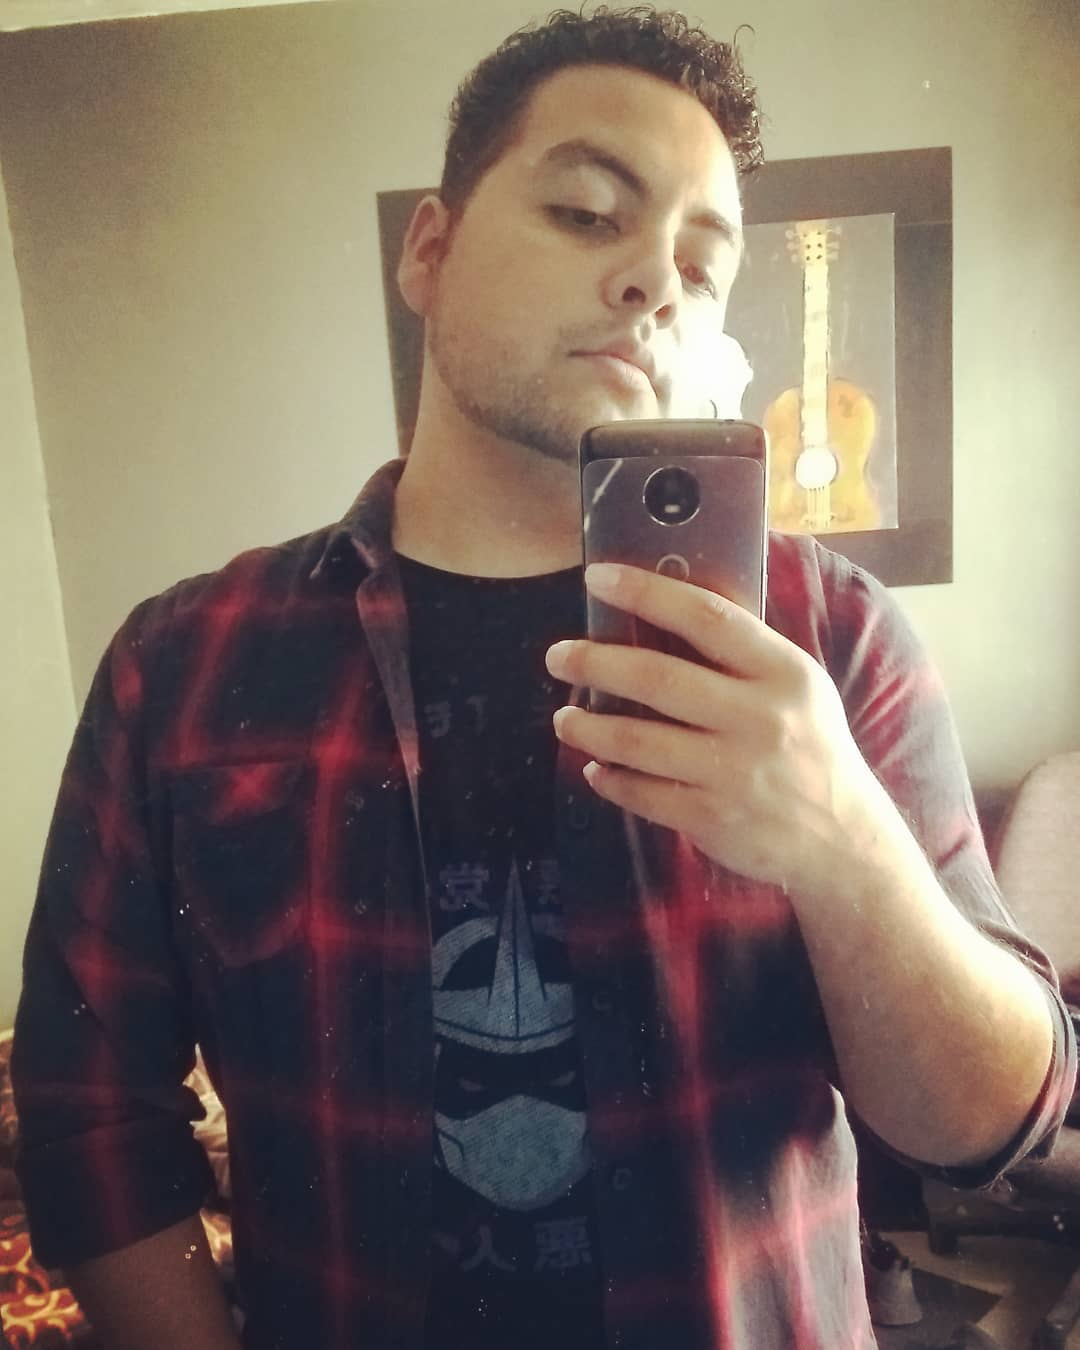Yoshi: (161, 37, 998, 882)
